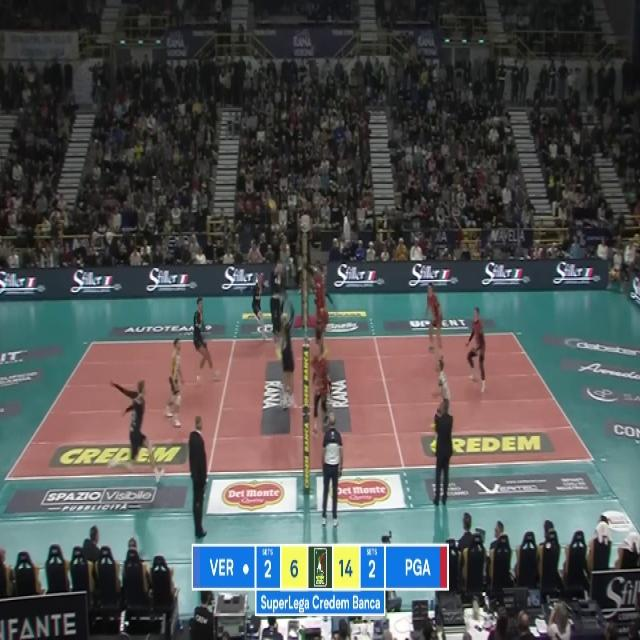volleyball court: (5, 329, 596, 479)
